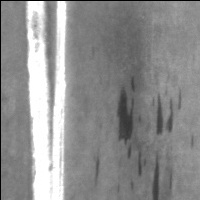inclusion: (115, 84, 139, 151), (155, 91, 183, 137), (142, 151, 163, 200), (92, 150, 105, 184)
scratches: (22, 1, 69, 200)
